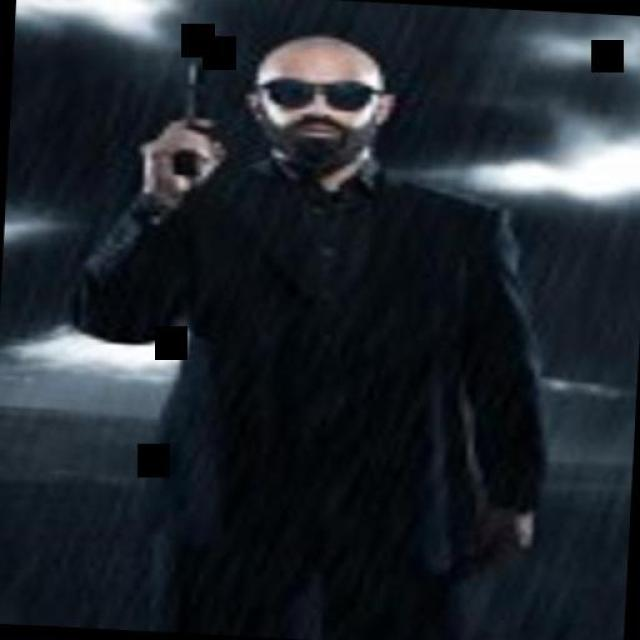gun: (172, 55, 212, 179)
